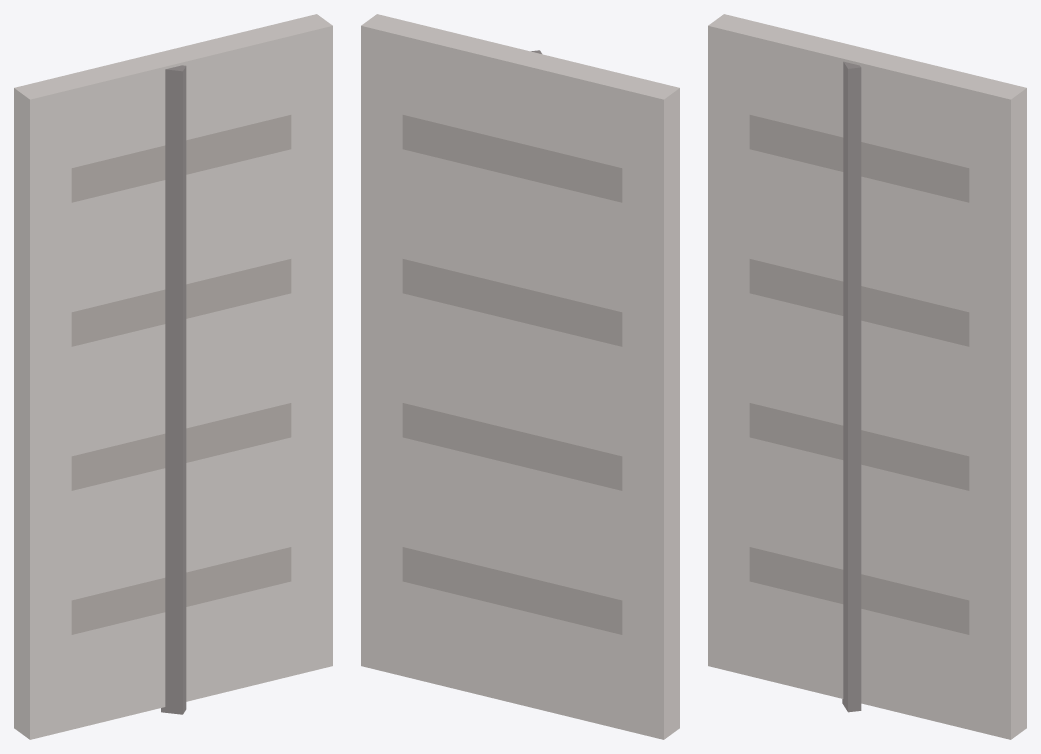
Rendered from cargo-shipping-door_L_white.glb.
3 renders of one model, left to right at view 1: azimuth 30°, elevation 25°; view 2: azimuth 150°, elevation 25°; view 3: azimuth 330°, elevation 25°, orthographic.
Parts seen in each view (by area): view 1: cargo-shipping-door_L_white; view 2: cargo-shipping-door_L_white; view 3: cargo-shipping-door_L_white.
Boxes of the visible parts, left/top/right/bottom form: cargo-shipping-door_L_white: left=14, top=14, right=332, bottom=739; cargo-shipping-door_L_white: left=361, top=14, right=679, bottom=739; cargo-shipping-door_L_white: left=708, top=14, right=1026, bottom=739.
Size of the model in its own units: 1.09 by 2.22 by 0.1398.
Materials: 1 (1 with a texture image).
